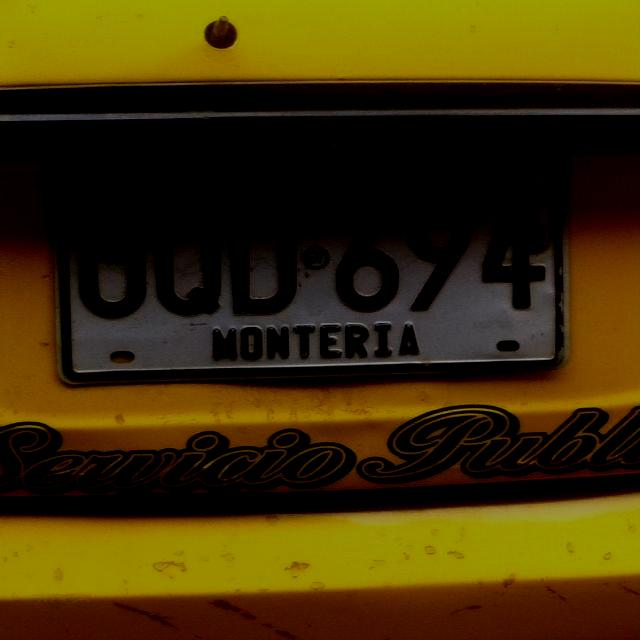placa: (46, 148, 577, 392)
